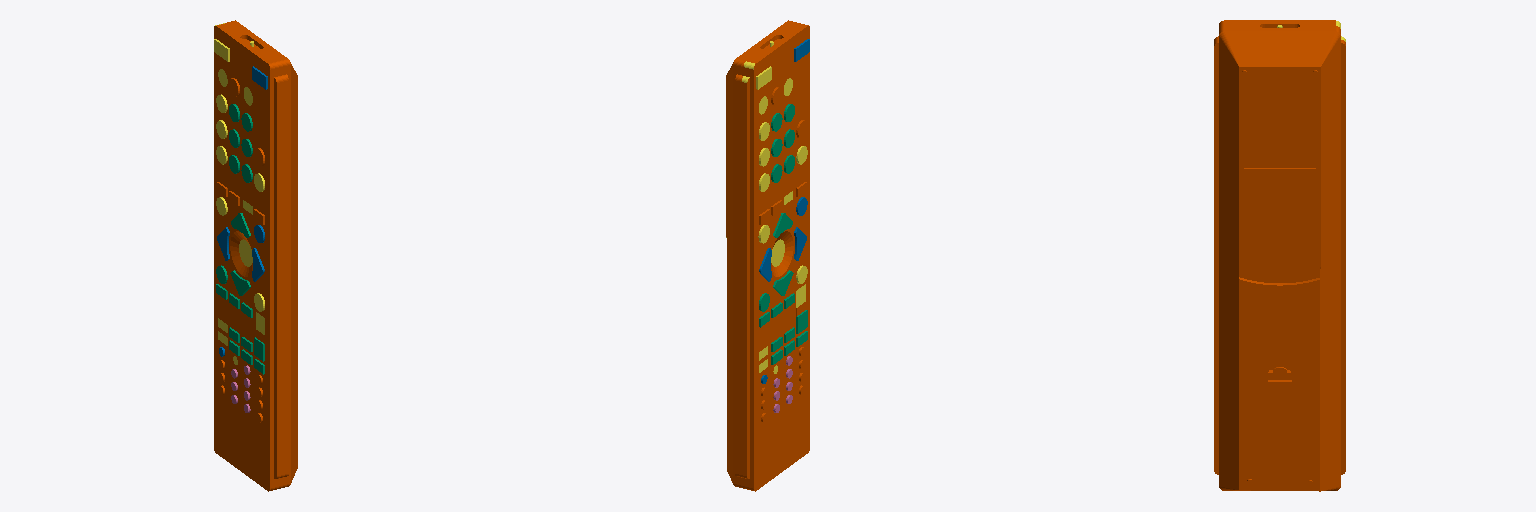
--- Facts derived from the render (not from the file) ---
3 views of the same robot in one strip: view 1: azimuth 30°, elevation 25°; view 2: azimuth 150°, elevation 25°; view 3: azimuth 270°, elevation 25° (orthographic).
Model partnet_33aeb6c217d9cf7e178e7d331e641179 with 7 links and 6 joints (2 revolute, 3 prismatic, 1 fixed), rooted at base, posed every joint at zero.
Links seen in each view (by area): view 1: link_4, link_1, link_2, link_3; view 2: link_4, link_1, link_2, link_3; view 3: link_4.
Boxes of the visible links, bbox=[...] form: link_4: bbox=[214, 20, 297, 491]; link_1: bbox=[216, 104, 264, 374]; link_2: bbox=[214, 23, 264, 364]; link_3: bbox=[217, 66, 267, 356]; link_4: bbox=[726, 20, 809, 491]; link_1: bbox=[759, 104, 807, 364]; link_2: bbox=[726, 41, 807, 373]; link_3: bbox=[759, 39, 809, 383]; link_4: bbox=[1214, 20, 1345, 491].
Bounding box of the posed robot: 0.19 × 0.4939 × 1.9 m (x, y, z).
Meshes: 82 distinct files referenced, 57 mesh visuals loaded (57 OBJ); not drawn: 25 (reference not matched to a file when rendering).

The robot description file, URDF, robot "partnet_33aeb6c217d9cf7e178e7d331e641179":
<?xml version="1.0" ?>
<robot name="partnet_33aeb6c217d9cf7e178e7d331e641179">
	<link name="base"/>
	<link name="link_0">
		<visual name="tray-20">
			<origin xyz="0 0 0"/>
			<geometry>
				<mesh filename="textured_objs/original-74.obj"/>
			</geometry>
		</visual>
		<visual name="tray-20">
			<origin xyz="0 0 0"/>
			<geometry>
				<mesh filename="textured_objs/original-75.obj"/>
			</geometry>
		</visual>
		<visual name="tray-20">
			<origin xyz="0 0 0"/>
			<geometry>
				<mesh filename="textured_objs/original-85.obj"/>
			</geometry>
		</visual>
		<visual name="tray-20">
			<origin xyz="0 0 0"/>
			<geometry>
				<mesh filename="textured_objs/original-84.obj"/>
			</geometry>
		</visual>
		<visual name="tray-20">
			<origin xyz="0 0 0"/>
			<geometry>
				<mesh filename="textured_objs/original-88.obj"/>
			</geometry>
		</visual>
		<visual name="tray-20">
			<origin xyz="0 0 0"/>
			<geometry>
				<mesh filename="textured_objs/original-79.obj"/>
			</geometry>
		</visual>
		<visual name="tray-20">
			<origin xyz="0 0 0"/>
			<geometry>
				<mesh filename="textured_objs/original-89.obj"/>
			</geometry>
		</visual>
		<visual name="tray-20">
			<origin xyz="0 0 0"/>
			<geometry>
				<mesh filename="textured_objs/original-87.obj"/>
			</geometry>
		</visual>
		<visual name="tray-20">
			<origin xyz="0 0 0"/>
			<geometry>
				<mesh filename="textured_objs/original-77.obj"/>
			</geometry>
		</visual>
		<visual name="tray-20">
			<origin xyz="0 0 0"/>
			<geometry>
				<mesh filename="textured_objs/original-81.obj"/>
			</geometry>
		</visual>
		<visual name="tray-20">
			<origin xyz="0 0 0"/>
			<geometry>
				<mesh filename="textured_objs/original-78.obj"/>
			</geometry>
		</visual>
		<visual name="tray-20">
			<origin xyz="0 0 0"/>
			<geometry>
				<mesh filename="textured_objs/original-73.obj"/>
			</geometry>
		</visual>
		<visual name="tray-20">
			<origin xyz="0 0 0"/>
			<geometry>
				<mesh filename="textured_objs/original-72.obj"/>
			</geometry>
		</visual>
		<visual name="tray-20">
			<origin xyz="0 0 0"/>
			<geometry>
				<mesh filename="textured_objs/original-76.obj"/>
			</geometry>
		</visual>
		<visual name="tray-20">
			<origin xyz="0 0 0"/>
			<geometry>
				<mesh filename="textured_objs/original-80.obj"/>
			</geometry>
		</visual>
		<visual name="tray-20">
			<origin xyz="0 0 0"/>
			<geometry>
				<mesh filename="textured_objs/original-82.obj"/>
			</geometry>
		</visual>
		<visual name="tray-20">
			<origin xyz="0 0 0"/>
			<geometry>
				<mesh filename="textured_objs/original-86.obj"/>
			</geometry>
		</visual>
		<visual name="tray-20">
			<origin xyz="0 0 0"/>
			<geometry>
				<mesh filename="textured_objs/original-83.obj"/>
			</geometry>
		</visual>
		<collision>
			<origin xyz="0 0 0"/>
			<geometry>
				<mesh filename="textured_objs/original-74.obj"/>
			</geometry>
		</collision>
		<collision>
			<origin xyz="0 0 0"/>
			<geometry>
				<mesh filename="textured_objs/original-75.obj"/>
			</geometry>
		</collision>
		<collision>
			<origin xyz="0 0 0"/>
			<geometry>
				<mesh filename="textured_objs/original-85.obj"/>
			</geometry>
		</collision>
		<collision>
			<origin xyz="0 0 0"/>
			<geometry>
				<mesh filename="textured_objs/original-84.obj"/>
			</geometry>
		</collision>
		<collision>
			<origin xyz="0 0 0"/>
			<geometry>
				<mesh filename="textured_objs/original-88.obj"/>
			</geometry>
		</collision>
		<collision>
			<origin xyz="0 0 0"/>
			<geometry>
				<mesh filename="textured_objs/original-79.obj"/>
			</geometry>
		</collision>
		<collision>
			<origin xyz="0 0 0"/>
			<geometry>
				<mesh filename="textured_objs/original-89.obj"/>
			</geometry>
		</collision>
		<collision>
			<origin xyz="0 0 0"/>
			<geometry>
				<mesh filename="textured_objs/original-87.obj"/>
			</geometry>
		</collision>
		<collision>
			<origin xyz="0 0 0"/>
			<geometry>
				<mesh filename="textured_objs/original-77.obj"/>
			</geometry>
		</collision>
		<collision>
			<origin xyz="0 0 0"/>
			<geometry>
				<mesh filename="textured_objs/original-81.obj"/>
			</geometry>
		</collision>
		<collision>
			<origin xyz="0 0 0"/>
			<geometry>
				<mesh filename="textured_objs/original-78.obj"/>
			</geometry>
		</collision>
		<collision>
			<origin xyz="0 0 0"/>
			<geometry>
				<mesh filename="textured_objs/original-73.obj"/>
			</geometry>
		</collision>
		<collision>
			<origin xyz="0 0 0"/>
			<geometry>
				<mesh filename="textured_objs/original-72.obj"/>
			</geometry>
		</collision>
		<collision>
			<origin xyz="0 0 0"/>
			<geometry>
				<mesh filename="textured_objs/original-76.obj"/>
			</geometry>
		</collision>
		<collision>
			<origin xyz="0 0 0"/>
			<geometry>
				<mesh filename="textured_objs/original-80.obj"/>
			</geometry>
		</collision>
		<collision>
			<origin xyz="0 0 0"/>
			<geometry>
				<mesh filename="textured_objs/original-82.obj"/>
			</geometry>
		</collision>
		<collision>
			<origin xyz="0 0 0"/>
			<geometry>
				<mesh filename="textured_objs/original-86.obj"/>
			</geometry>
		</collision>
		<collision>
			<origin xyz="0 0 0"/>
			<geometry>
				<mesh filename="textured_objs/original-83.obj"/>
			</geometry>
		</collision>
	</link>
	<joint name="joint_0" type="prismatic">
		<origin xyz="0 0 0"/>
		<axis xyz="0 0 1"/>
		<child link="link_0"/>
		<parent link="link_5"/>
		<limit lower="0" upper="0.528"/>
	</joint>
	<link name="link_1">
		<visual name="tray-21">
			<origin xyz="0 0 0"/>
			<geometry>
				<mesh filename="textured_objs/original-34.obj"/>
			</geometry>
		</visual>
		<visual name="tray-21">
			<origin xyz="0 0 0"/>
			<geometry>
				<mesh filename="textured_objs/original-37.obj"/>
			</geometry>
		</visual>
		<visual name="tray-21">
			<origin xyz="0 0 0"/>
			<geometry>
				<mesh filename="textured_objs/original-36.obj"/>
			</geometry>
		</visual>
		<visual name="tray-21">
			<origin xyz="0 0 0"/>
			<geometry>
				<mesh filename="textured_objs/original-47.obj"/>
			</geometry>
		</visual>
		<visual name="tray-21">
			<origin xyz="0 0 0"/>
			<geometry>
				<mesh filename="textured_objs/original-35.obj"/>
			</geometry>
		</visual>
		<visual name="tray-21">
			<origin xyz="0 0 0"/>
			<geometry>
				<mesh filename="textured_objs/original-46.obj"/>
			</geometry>
		</visual>
		<visual name="tray-21">
			<origin xyz="0 0 0"/>
			<geometry>
				<mesh filename="textured_objs/original-41.obj"/>
			</geometry>
		</visual>
		<visual name="tray-21">
			<origin xyz="0 0 0"/>
			<geometry>
				<mesh filename="textured_objs/original-50.obj"/>
			</geometry>
		</visual>
		<visual name="tray-21">
			<origin xyz="0 0 0"/>
			<geometry>
				<mesh filename="textured_objs/original-51.obj"/>
			</geometry>
		</visual>
		<visual name="tray-21">
			<origin xyz="0 0 0"/>
			<geometry>
				<mesh filename="textured_objs/original-49.obj"/>
			</geometry>
		</visual>
		<visual name="tray-21">
			<origin xyz="0 0 0"/>
			<geometry>
				<mesh filename="textured_objs/original-39.obj"/>
			</geometry>
		</visual>
		<visual name="tray-21">
			<origin xyz="0 0 0"/>
			<geometry>
				<mesh filename="textured_objs/original-40.obj"/>
			</geometry>
		</visual>
		<visual name="tray-21">
			<origin xyz="0 0 0"/>
			<geometry>
				<mesh filename="textured_objs/original-43.obj"/>
			</geometry>
		</visual>
		<visual name="tray-21">
			<origin xyz="0 0 0"/>
			<geometry>
				<mesh filename="textured_objs/original-38.obj"/>
			</geometry>
		</visual>
		<visual name="tray-21">
			<origin xyz="0 0 0"/>
			<geometry>
				<mesh filename="textured_objs/original-42.obj"/>
			</geometry>
		</visual>
		<visual name="tray-21">
			<origin xyz="0 0 0"/>
			<geometry>
				<mesh filename="textured_objs/original-44.obj"/>
			</geometry>
		</visual>
		<visual name="tray-21">
			<origin xyz="0 0 0"/>
			<geometry>
				<mesh filename="textured_objs/original-48.obj"/>
			</geometry>
		</visual>
		<visual name="tray-21">
			<origin xyz="0 0 0"/>
			<geometry>
				<mesh filename="textured_objs/original-45.obj"/>
			</geometry>
		</visual>
		<collision>
			<origin xyz="0 0 0"/>
			<geometry>
				<mesh filename="textured_objs/original-34.obj"/>
			</geometry>
		</collision>
		<collision>
			<origin xyz="0 0 0"/>
			<geometry>
				<mesh filename="textured_objs/original-37.obj"/>
			</geometry>
		</collision>
		<collision>
			<origin xyz="0 0 0"/>
			<geometry>
				<mesh filename="textured_objs/original-36.obj"/>
			</geometry>
		</collision>
		<collision>
			<origin xyz="0 0 0"/>
			<geometry>
				<mesh filename="textured_objs/original-47.obj"/>
			</geometry>
		</collision>
		<collision>
			<origin xyz="0 0 0"/>
			<geometry>
				<mesh filename="textured_objs/original-35.obj"/>
			</geometry>
		</collision>
		<collision>
			<origin xyz="0 0 0"/>
			<geometry>
				<mesh filename="textured_objs/original-46.obj"/>
			</geometry>
		</collision>
		<collision>
			<origin xyz="0 0 0"/>
			<geometry>
				<mesh filename="textured_objs/original-41.obj"/>
			</geometry>
		</collision>
		<collision>
			<origin xyz="0 0 0"/>
			<geometry>
				<mesh filename="textured_objs/original-50.obj"/>
			</geometry>
		</collision>
		<collision>
			<origin xyz="0 0 0"/>
			<geometry>
				<mesh filename="textured_objs/original-51.obj"/>
			</geometry>
		</collision>
		<collision>
			<origin xyz="0 0 0"/>
			<geometry>
				<mesh filename="textured_objs/original-49.obj"/>
			</geometry>
		</collision>
		<collision>
			<origin xyz="0 0 0"/>
			<geometry>
				<mesh filename="textured_objs/original-39.obj"/>
			</geometry>
		</collision>
		<collision>
			<origin xyz="0 0 0"/>
			<geometry>
				<mesh filename="textured_objs/original-40.obj"/>
			</geometry>
		</collision>
		<collision>
			<origin xyz="0 0 0"/>
			<geometry>
				<mesh filename="textured_objs/original-43.obj"/>
			</geometry>
		</collision>
		<collision>
			<origin xyz="0 0 0"/>
			<geometry>
				<mesh filename="textured_objs/original-38.obj"/>
			</geometry>
		</collision>
		<collision>
			<origin xyz="0 0 0"/>
			<geometry>
				<mesh filename="textured_objs/original-42.obj"/>
			</geometry>
		</collision>
		<collision>
			<origin xyz="0 0 0"/>
			<geometry>
				<mesh filename="textured_objs/original-44.obj"/>
			</geometry>
		</collision>
		<collision>
			<origin xyz="0 0 0"/>
			<geometry>
				<mesh filename="textured_objs/original-48.obj"/>
			</geometry>
		</collision>
		<collision>
			<origin xyz="0 0 0"/>
			<geometry>
				<mesh filename="textured_objs/original-45.obj"/>
			</geometry>
		</collision>
	</link>
	<joint name="joint_1" type="prismatic">
		<origin xyz="0 0 0"/>
		<axis xyz="0 0 1"/>
		<child link="link_1"/>
		<parent link="link_5"/>
		<limit lower="0" upper="0.528"/>
	</joint>
	<link name="link_2">
		<visual name="tray-22">
			<origin xyz="0 0 0"/>
			<geometry>
				<mesh filename="textured_objs/original-53.obj"/>
			</geometry>
		</visual>
		<visual name="tray-22">
			<origin xyz="0 0 0"/>
			<geometry>
				<mesh filename="textured_objs/original-54.obj"/>
			</geometry>
		</visual>
		<visual name="tray-22">
			<origin xyz="0 0 0"/>
			<geometry>
				<mesh filename="textured_objs/original-55.obj"/>
			</geometry>
		</visual>
		<visual name="tray-22">
			<origin xyz="0 0 0"/>
			<geometry>
				<mesh filename="textured_objs/original-56.obj"/>
			</geometry>
		</visual>
		<visual name="tray-22">
			<origin xyz="0 0 0"/>
			<geometry>
				<mesh filename="textured_objs/original-66.obj"/>
			</geometry>
		</visual>
		<visual name="tray-22">
			<origin xyz="0 0 0"/>
			<geometry>
				<mesh filename="textured_objs/original-65.obj"/>
			</geometry>
		</visual>
		<visual name="tray-22">
			<origin xyz="0 0 0"/>
			<geometry>
				<mesh filename="textured_objs/original-60.obj"/>
			</geometry>
		</visual>
		<visual name="tray-22">
			<origin xyz="0 0 0"/>
			<geometry>
				<mesh filename="textured_objs/original-69.obj"/>
			</geometry>
		</visual>
		<visual name="tray-22">
			<origin xyz="0 0 0"/>
			<geometry>
				<mesh filename="textured_objs/original-70.obj"/>
			</geometry>
		</visual>
		<visual name="tray-22">
			<origin xyz="0 0 0"/>
			<geometry>
				<mesh filename="textured_objs/original-68.obj"/>
			</geometry>
		</visual>
		<visual name="tray-22">
			<origin xyz="0 0 0"/>
			<geometry>
				<mesh filename="textured_objs/original-58.obj"/>
			</geometry>
		</visual>
		<visual name="tray-22">
			<origin xyz="0 0 0"/>
			<geometry>
				<mesh filename="textured_objs/original-59.obj"/>
			</geometry>
		</visual>
		<visual name="tray-22">
			<origin xyz="0 0 0"/>
			<geometry>
				<mesh filename="textured_objs/original-62.obj"/>
			</geometry>
		</visual>
		<visual name="tray-22">
			<origin xyz="0 0 0"/>
			<geometry>
				<mesh filename="textured_objs/original-57.obj"/>
			</geometry>
		</visual>
		<visual name="tray-22">
			<origin xyz="0 0 0"/>
			<geometry>
				<mesh filename="textured_objs/original-64.obj"/>
			</geometry>
		</visual>
		<visual name="tray-22">
			<origin xyz="0 0 0"/>
			<geometry>
				<mesh filename="textured_objs/original-67.obj"/>
			</geometry>
		</visual>
		<visual name="tray-22">
			<origin xyz="0 0 0"/>
			<geometry>
				<mesh filename="textured_objs/original-63.obj"/>
			</geometry>
		</visual>
		<visual name="tray-22">
			<origin xyz="0 0 0"/>
			<geometry>
				<mesh filename="textured_objs/original-61.obj"/>
			</geometry>
		</visual>
		<collision>
			<origin xyz="0 0 0"/>
			<geometry>
				<mesh filename="textured_objs/original-53.obj"/>
			</geometry>
		</collision>
		<collision>
			<origin xyz="0 0 0"/>
			<geometry>
				<mesh filename="textured_objs/original-54.obj"/>
			</geometry>
		</collision>
		<collision>
			<origin xyz="0 0 0"/>
			<geometry>
				<mesh filename="textured_objs/original-55.obj"/>
			</geometry>
		</collision>
		<collision>
			<origin xyz="0 0 0"/>
			<geometry>
				<mesh filename="textured_objs/original-56.obj"/>
			</geometry>
		</collision>
		<collision>
			<origin xyz="0 0 0"/>
			<geometry>
				<mesh filename="textured_objs/original-66.obj"/>
			</geometry>
		</collision>
		<collision>
			<origin xyz="0 0 0"/>
			<geometry>
				<mesh filename="textured_objs/original-65.obj"/>
			</geometry>
		</collision>
		<collision>
			<origin xyz="0 0 0"/>
			<geometry>
				<mesh filename="textured_objs/original-60.obj"/>
			</geometry>
		</collision>
		<collision>
			<origin xyz="0 0 0"/>
			<geometry>
				<mesh filename="textured_objs/original-69.obj"/>
			</geometry>
		</collision>
		<collision>
			<origin xyz="0 0 0"/>
			<geometry>
				<mesh filename="textured_objs/original-70.obj"/>
			</geometry>
		</collision>
		<collision>
			<origin xyz="0 0 0"/>
			<geometry>
				<mesh filename="textured_objs/original-68.obj"/>
			</geometry>
		</collision>
		<collision>
			<origin xyz="0 0 0"/>
			<geometry>
				<mesh filename="textured_objs/original-58.obj"/>
			</geometry>
		</collision>
		<collision>
			<origin xyz="0 0 0"/>
			<geometry>
				<mesh filename="textured_objs/original-59.obj"/>
			</geometry>
		</collision>
		<collision>
			<origin xyz="0 0 0"/>
			<geometry>
				<mesh filename="textured_objs/original-62.obj"/>
			</geometry>
		</collision>
		<collision>
			<origin xyz="0 0 0"/>
			<geometry>
				<mesh filename="textured_objs/original-57.obj"/>
			</geometry>
		</collision>
		<collision>
			<origin xyz="0 0 0"/>
			<geometry>
				<mesh filename="textured_objs/original-64.obj"/>
			</geometry>
		</collision>
		<collision>
			<origin xyz="0 0 0"/>
			<geometry>
				<mesh filename="textured_objs/original-67.obj"/>
			</geometry>
		</collision>
		<collision>
			<origin xyz="0 0 0"/>
			<geometry>
				<mesh filename="textured_objs/original-63.obj"/>
			</geometry>
		</collision>
		<collision>
			<origin xyz="0 0 0"/>
			<geometry>
				<mesh filename="textured_objs/original-61.obj"/>
			</geometry>
		</collision>
	</link>
	<joint name="joint_2" type="prismatic">
		<origin xyz="0 0 0"/>
		<axis xyz="0 0 1"/>
		<child link="link_2"/>
		<parent link="link_5"/>
		<limit lower="0" upper="0.528"/>
	</joint>
	<link name="link_3">
		<visual name="door_frame-17">
			<origin xyz="0.5342130064964294 0.7690419264409818 -0.36910544487147934"/>
			<geometry>
				<mesh filename="textured_objs/original-1.obj"/>
			</geometry>
		</visual>
		<visual name="glass-18">
			<origin xyz="0.5342130064964294 0.7690419264409818 -0.36910544487147934"/>
			<geometry>
				<mesh filename="textured_objs/original-11.obj"/>
			</geometry>
		</visual>
		<visual name="handle-19">
			<origin xyz="0.5342130064964294 0.7690419264409818 -0.36910544487147934"/>
			<geometry>
				<mesh filename="textured_objs/original-29.obj"/>
			</geometry>
		</visual>
		<visual name="handle-19">
			<origin xyz="0.5342130064964294 0.7690419264409818 -0.36910544487147934"/>
			<geometry>
				<mesh filename="textured_objs/original-31.obj"/>
			</geometry>
		</visual>
		<visual name="handle-19">
			<origin xyz="0.5342130064964294 0.7690419264409818 -0.36910544487147934"/>
			<geometry>
				<mesh filename="textured_objs/original-30.obj"/>
			</geometry>
		</visual>
		<collision>
			<origin xyz="0.5342130064964294 0.7690419264409818 -0.36910544487147934"/>
			<geometry>
				<mesh filename="textured_objs/original-1.obj"/>
			</geometry>
		</collision>
		<collision>
			<origin xyz="0.5342130064964294 0.7690419264409818 -0.36910544487147934"/>
			<geometry>
				<mesh filename="textured_objs/original-11.obj"/>
			</geometry>
		</collision>
		<collision>
			<origin xyz="0.5342130064964294 0.7690419264409818 -0.36910544487147934"/>
			<geometry>
				<mesh filename="textured_objs/original-29.obj"/>
			</geometry>
		</collision>
		<collision>
			<origin xyz="0.5342130064964294 0.7690419264409818 -0.36910544487147934"/>
			<geometry>
				<mesh filename="textured_objs/original-31.obj"/>
			</geometry>
		</collision>
		<collision>
			<origin xyz="0.5342130064964294 0.7690419264409818 -0.36910544487147934"/>
			<geometry>
				<mesh filename="textured_objs/original-30.obj"/>
			</geometry>
		</collision>
	</link>
	<joint name="joint_3" type="revolute">
		<origin xyz="-0.5342130064964294 -0.7690419264409818 0.36910544487147934"/>
		<axis xyz="1 0 0"/>
		<child link="link_3"/>
		<parent link="link_5"/>
		<limit lower="-0.0" upper="1.5707963267948966"/>
	</joint>
	<link name="link_4">
		<visual name="door_frame-14">
			<origin xyz="0.5410640239715576 -0.06122878928574457 -0.36582296368257883"/>
			<geometry>
				<mesh filename="textured_objs/original-16.obj"/>
			</geometry>
		</visual>
		<visual name="door_frame-14">
			<origin xyz="0.5410640239715576 -0.06122878928574457 -0.36582296368257883"/>
			<geometry>
				<mesh filename="textured_objs/original-18.obj"/>
			</geometry>
		</visual>
		<visual name="door_frame-14">
			<origin xyz="0.5410640239715576 -0.06122878928574457 -0.36582296368257883"/>
			<geometry>
				<mesh filename="textured_objs/original-20.obj"/>
			</geometry>
		</visual>
		<visual name="door_frame-14">
			<origin xyz="0.5410640239715576 -0.06122878928574457 -0.36582296368257883"/>
			<geometry>
				<mesh filename="textured_objs/original-17.obj"/>
			</geometry>
		</visual>
		<visual name="door_frame-14">
			<origin xyz="0.5410640239715576 -0.06122878928574457 -0.36582296368257883"/>
			<geometry>
				<mesh filename="textured_objs/original-21.obj"/>
			</geometry>
		</visual>
		<visual name="door_frame-14">
			<origin xyz="0.5410640239715576 -0.06122878928574457 -0.36582296368257883"/>
			<geometry>
				<mesh filename="textured_objs/original-15.obj"/>
			</geometry>
		</visual>
		<visual name="door_frame-14">
			<origin xyz="0.5410640239715576 -0.06122878928574457 -0.36582296368257883"/>
			<geometry>
				<mesh filename="textured_objs/original-23.obj"/>
			</geometry>
		</visual>
		<visual name="door_frame-14">
			<origin xyz="0.5410640239715576 -0.06122878928574457 -0.36582296368257883"/>
			<geometry>
				<mesh filename="textured_objs/original-19.obj"/>
			</geometry>
		</visual>
		<visual name="door_frame-14">
			<origin xyz="0.5410640239715576 -0.06122878928574457 -0.36582296368257883"/>
			<geometry>
				<mesh filename="textured_objs/original-22.obj"/>
			</geometry>
		</visual>
		<visual name="door_frame-14">
			<origin xyz="0.5410640239715576 -0.06122878928574457 -0.36582296368257883"/>
			<geometry>
				<mesh filename="textured_objs/original-2.obj"/>
			</geometry>
		</visual>
		<visual name="glass-15">
			<origin xyz="0.5410640239715576 -0.06122878928574457 -0.36582296368257883"/>
			<geometry>
				<mesh filename="textured_objs/original-12.obj"/>
			</geometry>
		</visual>
		<visual name="handle-16">
			<origin xyz="0.5410640239715576 -0.06122878928574457 -0.36582296368257883"/>
			<geometry>
				<mesh filename="textured_objs/original-25.obj"/>
			</geometry>
		</visual>
		<visual name="handle-16">
			<origin xyz="0.5410640239715576 -0.06122878928574457 -0.36582296368257883"/>
			<geometry>
				<mesh filename="textured_objs/original-27.obj"/>
			</geometry>
		</visual>
		<visual name="handle-16">
			<origin xyz="0.5410640239715576 -0.06122878928574457 -0.36582296368257883"/>
			<geometry>
				<mesh filename="textured_objs/original-26.obj"/>
			</geometry>
		</visual>
		<collision>
			<origin xyz="0.5410640239715576 -0.06122878928574457 -0.36582296368257883"/>
			<geometry>
				<mesh filename="textured_objs/original-16.obj"/>
			</geometry>
		</collision>
		<collision>
			<origin xyz="0.5410640239715576 -0.06122878928574457 -0.36582296368257883"/>
			<geometry>
				<mesh filename="textured_objs/original-18.obj"/>
			</geometry>
		</collision>
		<collision>
			<origin xyz="0.5410640239715576 -0.06122878928574457 -0.36582296368257883"/>
			<geometry>
				<mesh filename="textured_objs/original-20.obj"/>
			</geometry>
		</collision>
		<collision>
			<origin xyz="0.5410640239715576 -0.06122878928574457 -0.36582296368257883"/>
			<geometry>
				<mesh filename="textured_objs/original-17.obj"/>
			</geometry>
		</collision>
		<collision>
			<origin xyz="0.5410640239715576 -0.06122878928574457 -0.36582296368257883"/>
			<geometry>
				<mesh filename="textured_objs/original-21.obj"/>
			</geometry>
		</collision>
		<collision>
			<origin xyz="0.5410640239715576 -0.06122878928574457 -0.36582296368257883"/>
			<geometry>
				<mesh filename="textured_objs/original-15.obj"/>
			</geometry>
		</collision>
		<collision>
			<origin xyz="0.5410640239715576 -0.06122878928574457 -0.36582296368257883"/>
			<geometry>
				<mesh filename="textured_objs/original-23.obj"/>
			</geometry>
		</collision>
		<collision>
			<origin xyz="0.5410640239715576 -0.06122878928574457 -0.36582296368257883"/>
			<geometry>
				<mesh filename="textured_objs/original-19.obj"/>
			</geometry>
		</collision>
		<collision>
			<origin xyz="0.5410640239715576 -0.06122878928574457 -0.36582296368257883"/>
			<geometry>
				<mesh filename="textured_objs/original-22.obj"/>
			</geometry>
		</collision>
		<collision>
			<origin xyz="0.5410640239715576 -0.06122878928574457 -0.36582296368257883"/>
			<geometry>
				<mesh filename="textured_objs/original-2.obj"/>
			</geometry>
		</collision>
		<collision>
			<origin xyz="0.5410640239715576 -0.06122878928574457 -0.36582296368257883"/>
			<geometry>
				<mesh filename="textured_objs/original-12.obj"/>
			</geometry>
		</collision>
		<collision>
			<origin xyz="0.5410640239715576 -0.06122878928574457 -0.36582296368257883"/>
			<geometry>
				<mesh filename="textured_objs/original-25.obj"/>
			</geometry>
		</collision>
		<collision>
			<origin xyz="0.5410640239715576 -0.06122878928574457 -0.36582296368257883"/>
			<geometry>
				<mesh filename="textured_objs/original-27.obj"/>
			</geometry>
		</collision>
		<collision>
			<origin xyz="0.5410640239715576 -0.06122878928574457 -0.36582296368257883"/>
			<geometry>
				<mesh filename="textured_objs/original-26.obj"/>
			</geometry>
		</collision>
	</link>
	<joint name="joint_4" type="revolute">
		<origin xyz="-0.5410640239715576 0.06122878928574457 0.36582296368257883"/>
		<axis xyz="1 0 0"/>
		<child link="link_4"/>
		<parent link="link_5"/>
		<limit lower="-0.0" upper="1.5707963267948966"/>
	</joint>
	<link name="link_5">
		<visual name="frame-7">
			<origin xyz="0 0 0"/>
			<geometry>
				<mesh filename="textured_objs/original-4.obj"/>
			</geometry>
		</visual>
		<visual name="frame-7">
			<origin xyz="0 0 0"/>
			<geometry>
				<mesh filename="textured_objs/original-6.obj"/>
			</geometry>
		</visual>
		<visual name="frame-7">
			<origin xyz="0 0 0"/>
			<geometry>
				<mesh filename="textured_objs/original-8.obj"/>
			</geometry>
		</visual>
		<visual name="frame-7">
			<origin xyz="0 0 0"/>
			<geometry>
				<mesh filename="textured_objs/original-3.obj"/>
			</geometry>
		</visual>
		<visual name="frame-7">
			<origin xyz="0 0 0"/>
			<geometry>
				<mesh filename="textured_objs/original-7.obj"/>
			</geometry>
		</visual>
		<visual name="frame-7">
			<origin xyz="0 0 0"/>
			<geometry>
				<mesh filename="textured_objs/original-5.obj"/>
			</geometry>
		</visual>
		<visual name="frame-7">
			<origin xyz="0 0 0"/>
			<geometry>
				<mesh filename="textured_objs/original-9.obj"/>
			</geometry>
		</visual>
		<visual name="frame-7">
			<origin xyz="0 0 0"/>
			<geometry>
				<mesh filename="textured_objs/original-90.obj"/>
			</geometry>
		</visual>
		<visual name="display_panel-13">
			<origin xyz="0 0 0"/>
			<geometry>
				<mesh filename="textured_objs/original-91.obj"/>
			</geometry>
		</visual>
		<collision>
			<origin xyz="0 0 0"/>
			<geometry>
				<mesh filename="textured_objs/original-4.obj"/>
			</geometry>
		</collision>
		<collision>
			<origin xyz="0 0 0"/>
			<geometry>
				<mesh filename="textured_objs/original-6.obj"/>
			</geometry>
		</collision>
		<collision>
			<origin xyz="0 0 0"/>
			<geometry>
				<mesh filename="textured_objs/original-8.obj"/>
			</geometry>
		</collision>
		<collision>
			<origin xyz="0 0 0"/>
			<geometry>
				<mesh filename="textured_objs/original-3.obj"/>
			</geometry>
		</collision>
		<collision>
			<origin xyz="0 0 0"/>
			<geometry>
				<mesh filename="textured_objs/original-7.obj"/>
			</geometry>
		</collision>
		<collision>
			<origin xyz="0 0 0"/>
			<geometry>
				<mesh filename="textured_objs/original-5.obj"/>
			</geometry>
		</collision>
		<collision>
			<origin xyz="0 0 0"/>
			<geometry>
				<mesh filename="textured_objs/original-9.obj"/>
			</geometry>
		</collision>
		<collision>
			<origin xyz="0 0 0"/>
			<geometry>
				<mesh filename="textured_objs/original-90.obj"/>
			</geometry>
		</collision>
		<collision>
			<origin xyz="0 0 0"/>
			<geometry>
				<mesh filename="textured_objs/original-91.obj"/>
			</geometry>
		</collision>
	</link>
	<joint name="joint_5" type="fixed">
		<origin rpy="1.570796326794897 0 -1.570796326794897" xyz="0 0 0"/>
		<child link="link_5"/>
		<parent link="base"/>
	</joint>
</robot>
